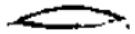Mouth: (10, 4, 129, 32)
